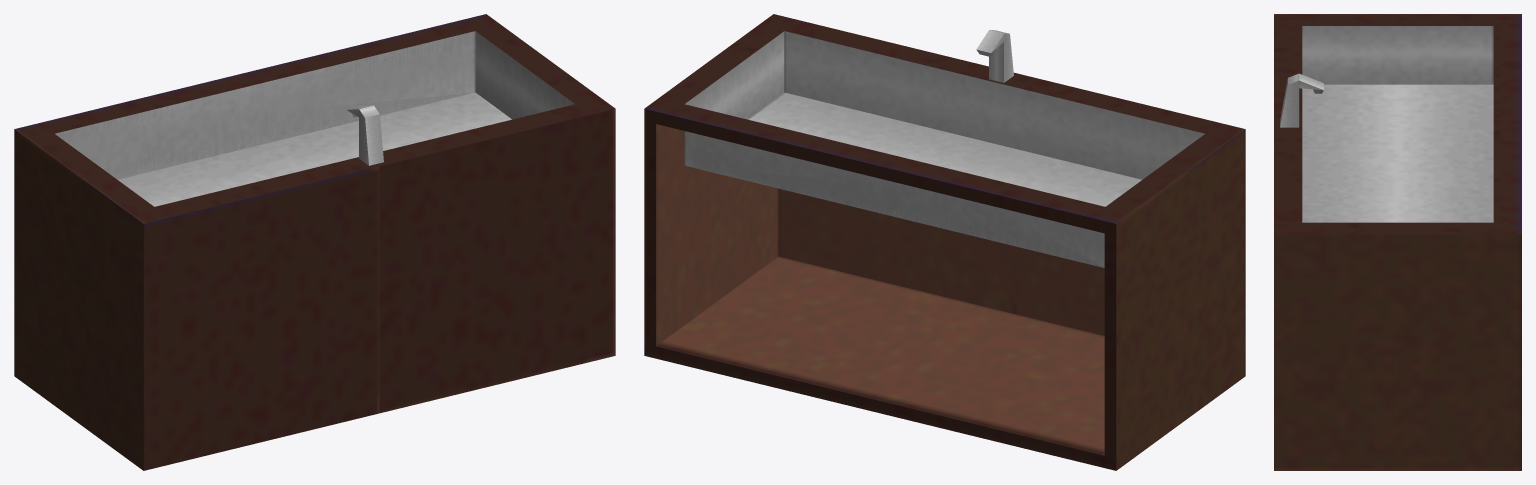
File: cabinet_with_sink.fbx
3 renders of one model, left to right at view 1: azimuth 30°, elevation 25°; view 2: azimuth 150°, elevation 25°; view 3: azimuth 270°, elevation 25°, orthographic. The views are drawn at different scales.
Visible parts, largest first — view 1: Sink Cabinet; view 2: Sink Cabinet; view 3: Sink Cabinet.
Boxes of the visible parts, x1,y1,x2,y2 form: Sink Cabinet: (14, 14, 615, 470); Sink Cabinet: (644, 14, 1245, 470); Sink Cabinet: (1274, 14, 1521, 470).
Size of the model in its own units: 2.28 by 1.08 by 1.37.
3 materials, 3 textured.
